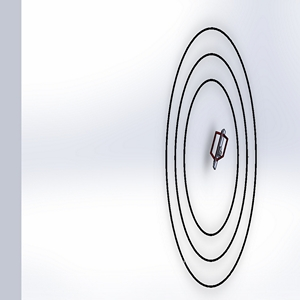circle: (157, 24, 270, 290)
submarine: (205, 124, 230, 176)
